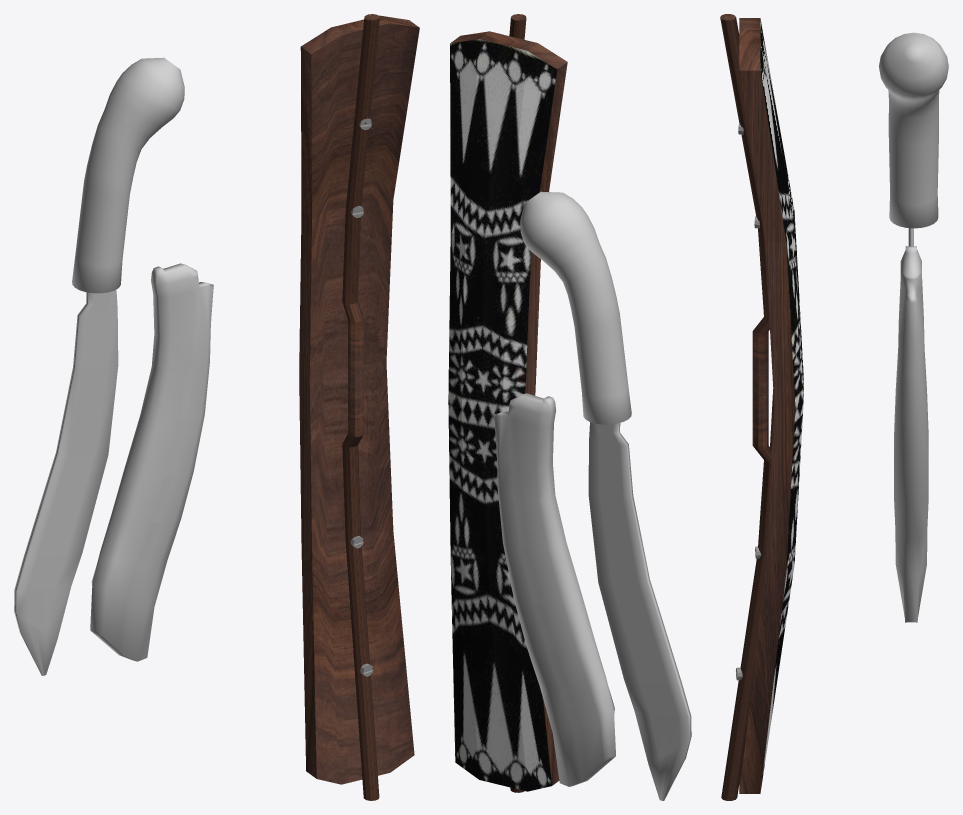
File: Parang salawaku.fbx
3 views of the same model, side by side, from view 1: azimuth 30°, elevation 25°; view 2: azimuth 150°, elevation 25°; view 3: azimuth 270°, elevation 25° (orthographic).
Visible parts, largest first — view 1: Cube, polySurface6_lmbt_3_0, polySurface12_lmbt_3_0, pCylinder4_lmbt_3_0, Cylinder; view 2: Cube, polySurface6_lmbt_3_0, polySurface12_lmbt_3_0, pCylinder4_lmbt_3_0; view 3: Cube, polySurface6_lmbt_3_0, pCylinder4_lmbt_3_0, Cylinder.
Part boxes in pixels (x1,y1,x2,y2): Cube: (299, 15, 419, 784); polySurface6_lmbt_3_0: (90, 263, 213, 661); polySurface12_lmbt_3_0: (14, 290, 118, 675); pCylinder4_lmbt_3_0: (72, 57, 184, 293); Cylinder: (342, 14, 379, 800); Cube: (448, 31, 567, 791); polySurface6_lmbt_3_0: (494, 393, 615, 786); polySurface12_lmbt_3_0: (588, 422, 691, 800); pCylinder4_lmbt_3_0: (520, 191, 631, 424); Cube: (739, 18, 803, 793); polySurface6_lmbt_3_0: (894, 246, 928, 622); pCylinder4_lmbt_3_0: (879, 32, 948, 228); Cylinder: (720, 14, 771, 800).
Size of the model in its own units: 201 by 472 by 125.
